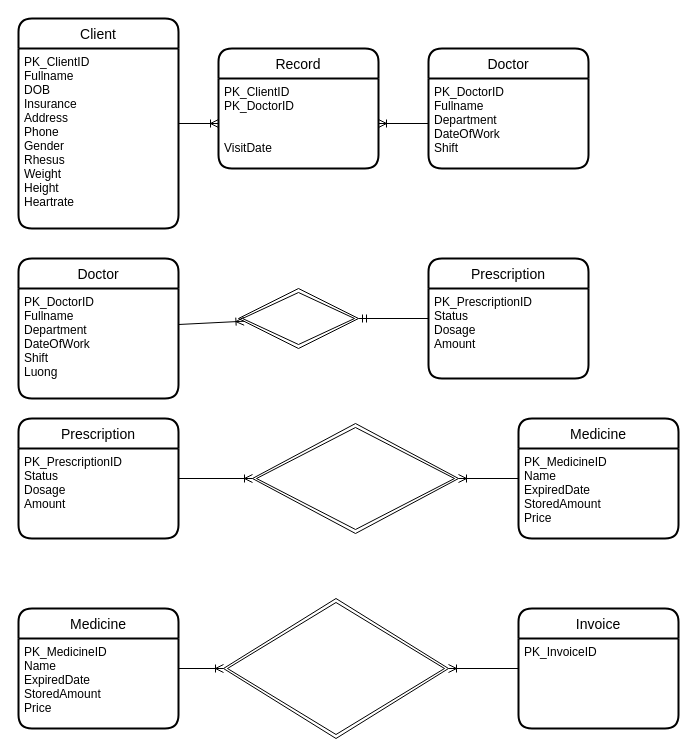
Image size: 696x756. Some labels were removed from this diagram. Here are the shapes that lost their labels. From the top down, the centre of each, then its label:
(298,318): Has
(355,478): Belong PK_ PrescriptionID PK_ MedicineID Date
(335,668): Belong1 PK_ PrescriptionID PK_ MedicineID Date
